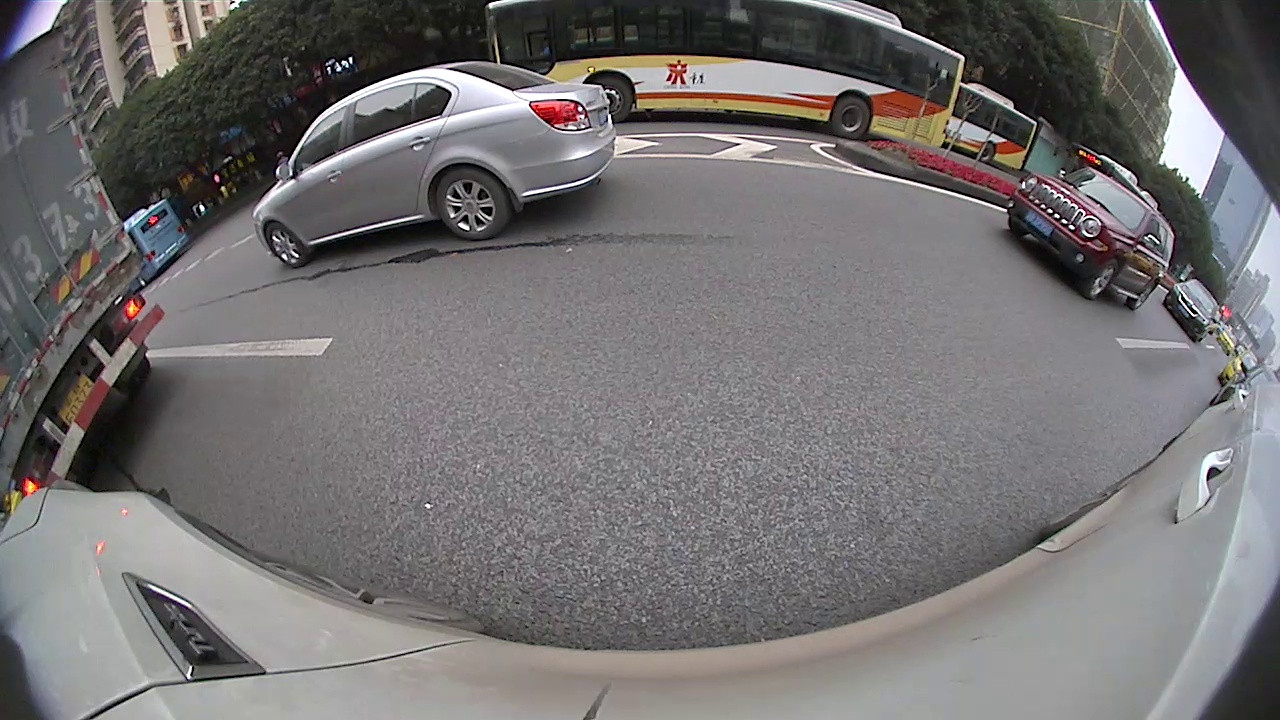bus: (483, 0, 967, 156), (949, 83, 1039, 173), (119, 207, 190, 284)
car: (252, 62, 614, 271), (1008, 164, 1174, 312), (1160, 277, 1222, 341)
front: (264, 220, 315, 269), (586, 72, 634, 123), (1079, 257, 1120, 301)
rear: (435, 164, 512, 242), (830, 93, 871, 141), (977, 142, 995, 163)
truck: (2, 30, 168, 497)
